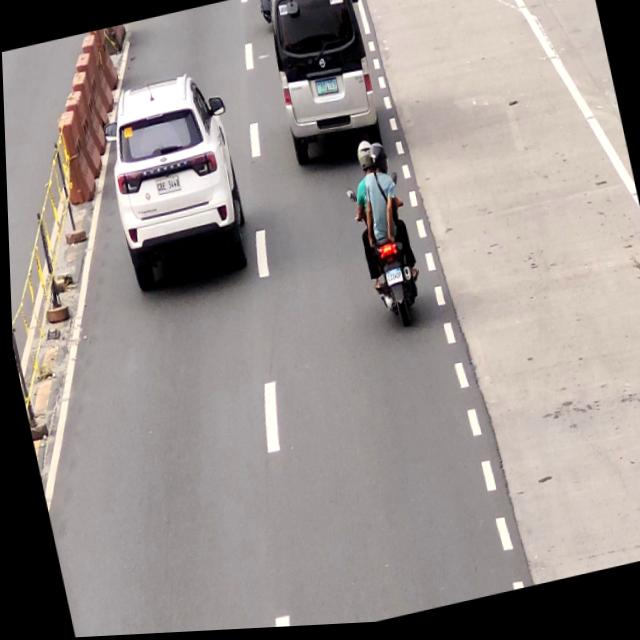Car: (91, 66, 253, 296), (257, 0, 381, 165)
License-Plate: (152, 174, 181, 201), (313, 80, 338, 102), (381, 269, 402, 291)
Motorcycle: (338, 136, 429, 336)
